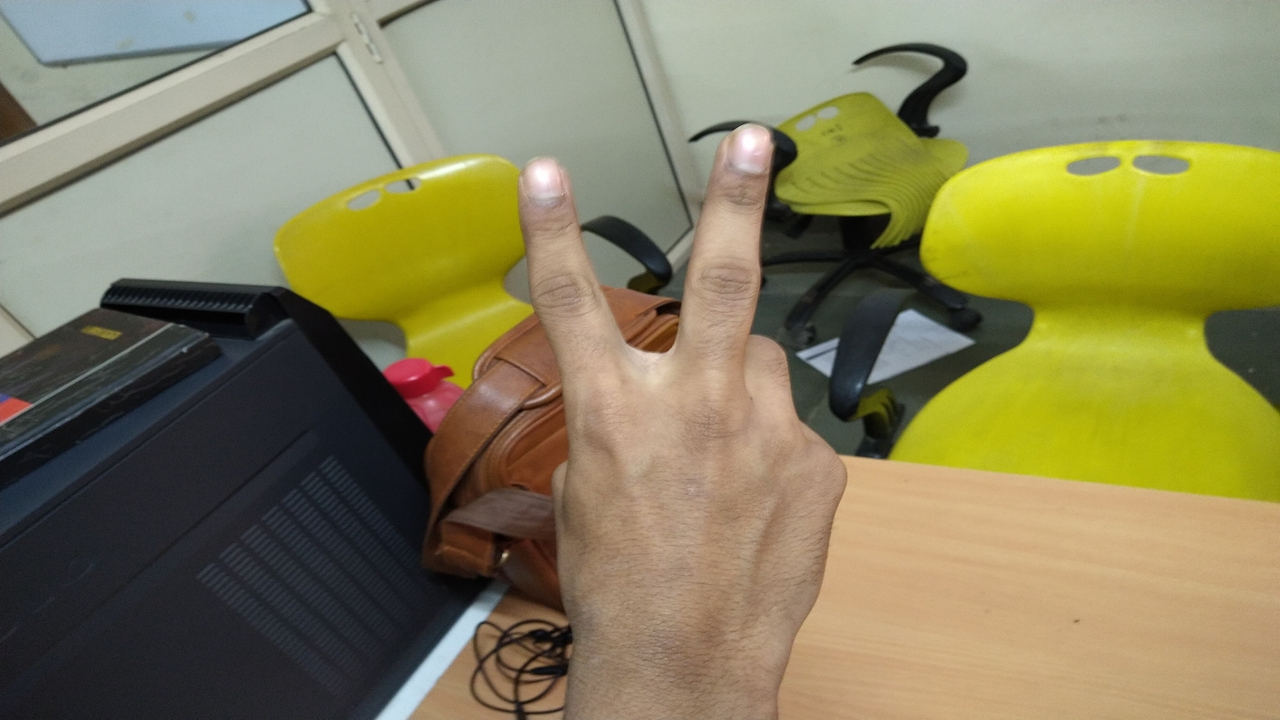fingertip: (714, 120, 786, 180), (514, 152, 576, 214)
